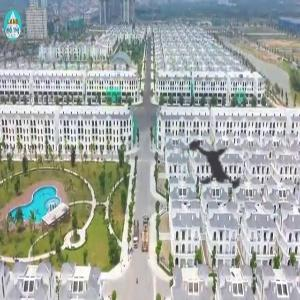drone: (158, 112, 274, 228)
